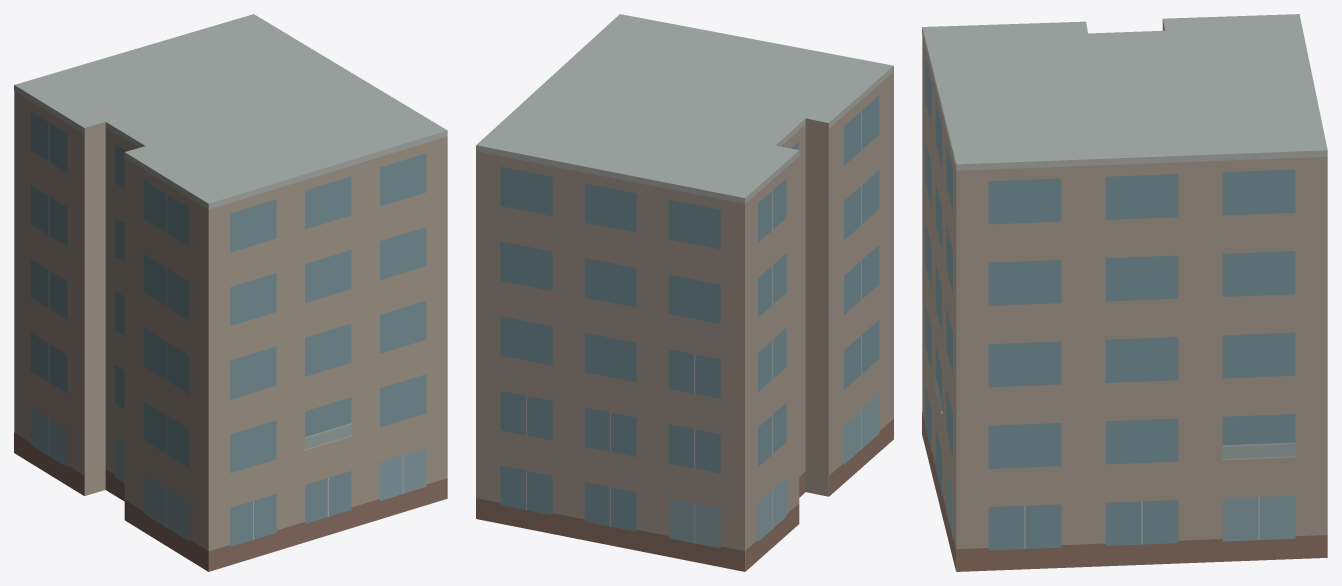
Rendered from survey-upis-32655163.glb.
The picture shows the model from 3 angles, left to right: view 1: azimuth 30°, elevation 25°; view 2: azimuth 150°, elevation 25°; view 3: azimuth 270°, elevation 25°; orthographic projection. The views are drawn at different scales.
Visible parts, largest first — view 1: survey-upis-32655163.tmp; view 2: survey-upis-32655163.tmp; view 3: survey-upis-32655163.tmp.
Boxes of the visible parts, x1,y1,x2,y2 form: survey-upis-32655163.tmp: (14, 14, 447, 571); survey-upis-32655163.tmp: (476, 14, 893, 571); survey-upis-32655163.tmp: (922, 14, 1327, 571).
Size of the model in its own units: 12.28 by 15.5 by 13.99.
